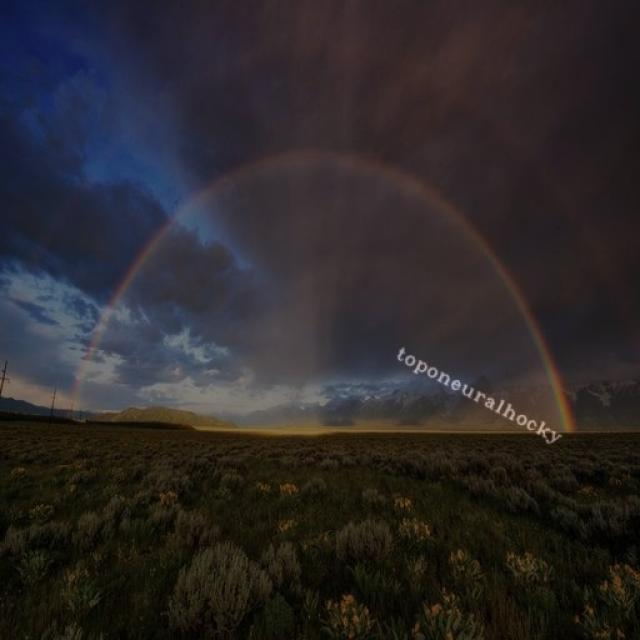watermark: (388, 342, 570, 447)
